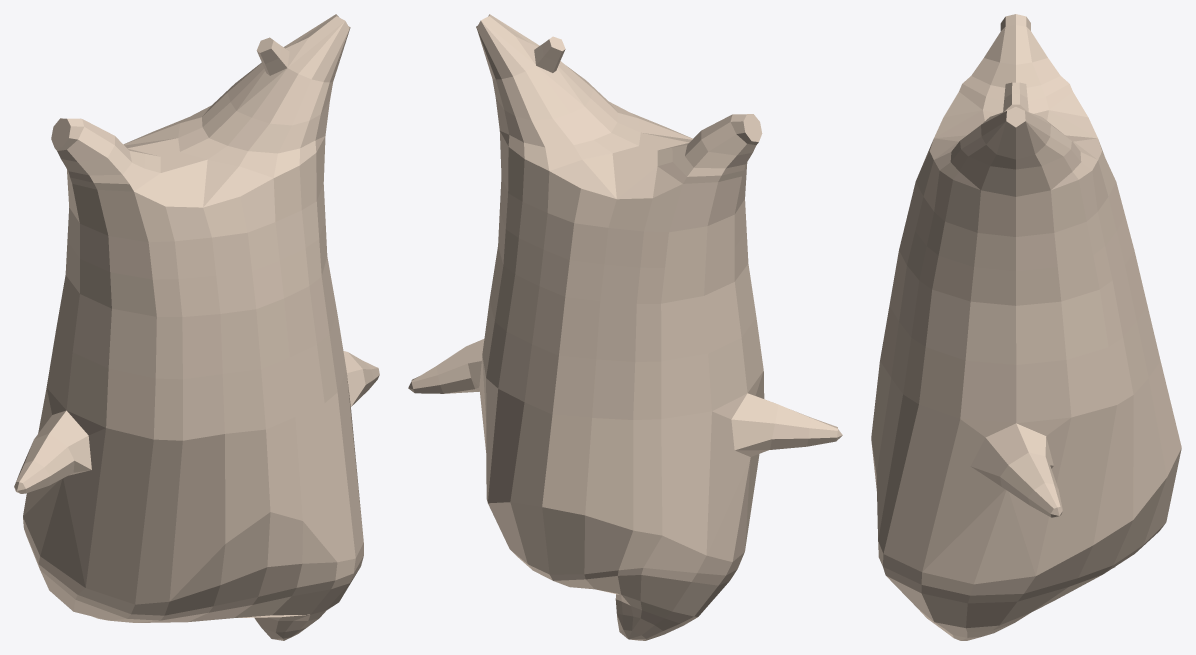
Rendered from frame_0010.obj.
The picture shows the model from 3 angles, left to right: view 1: azimuth 30°, elevation 25°; view 2: azimuth 150°, elevation 25°; view 3: azimuth 270°, elevation 25°; orthographic projection. The views are drawn at different scales.
Parts seen in each view (by area): view 1: korok; view 2: korok; view 3: korok.
Part boxes in pixels (x1,y1,x2,y2): korok: (14, 14, 379, 640); korok: (408, 14, 842, 640); korok: (871, 14, 1181, 640).
Size of the model in its own units: 1.57 by 2.15 by 1.06.
